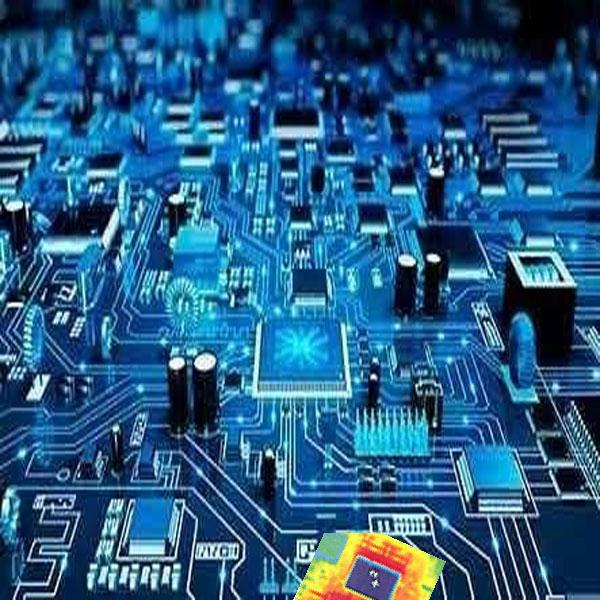componente_T: (286, 529, 448, 600)
